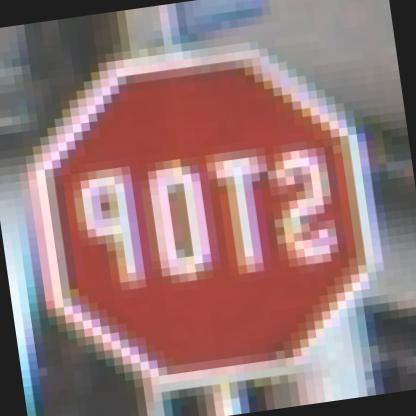stop: (6, 22, 415, 414)
